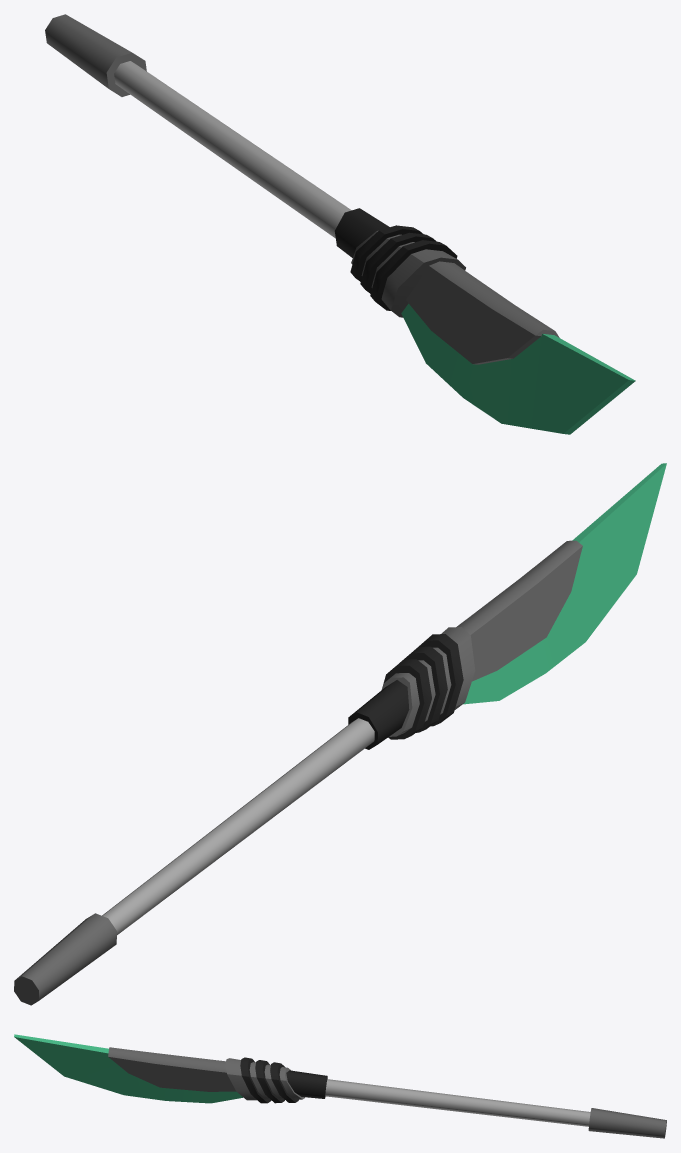
The model's file is Spear.fbx.
The picture shows the model from 3 angles, top to bottom: view 1: azimuth 30°, elevation 25°; view 2: azimuth 150°, elevation 25°; view 3: azimuth 270°, elevation 25°; orthographic projection. The views are drawn at different scales.
Visible parts, largest first — view 1: Spear; view 2: Spear; view 3: Spear.
Part boxes in pixels (left/top/right/bottom): Spear: left=45, top=14, right=635, bottom=434; Spear: left=14, top=463, right=666, bottom=1005; Spear: left=14, top=1034, right=666, bottom=1138.
Size of the model in its own units: 0.664 by 0.9014 by 6.45.
